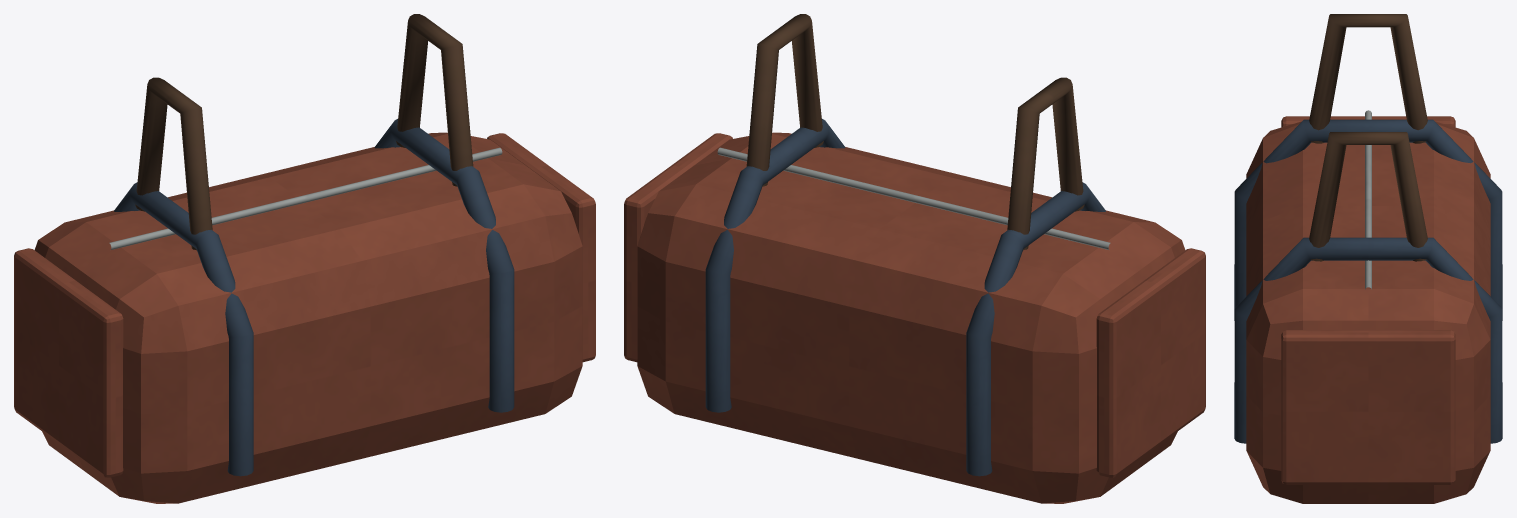
Rendered from duffel_bag.glb.
3 renders of one model, left to right at view 1: azimuth 30°, elevation 25°; view 2: azimuth 150°, elevation 25°; view 3: azimuth 270°, elevation 25°, orthographic. The views are drawn at different scales.
Parts seen in each view (by area): view 1: duffel_bag_Mesh; view 2: duffel_bag_Mesh; view 3: duffel_bag_Mesh.
Part boxes in pixels (box(x1,y1,x2,y2)): duffel_bag_Mesh: box(14, 14, 595, 503); duffel_bag_Mesh: box(624, 14, 1205, 503); duffel_bag_Mesh: box(1234, 14, 1502, 503).
Bounding box in the file's own units: 0.604 × 0.4364 × 0.308.
Materials: 4 (4 with a texture image).
